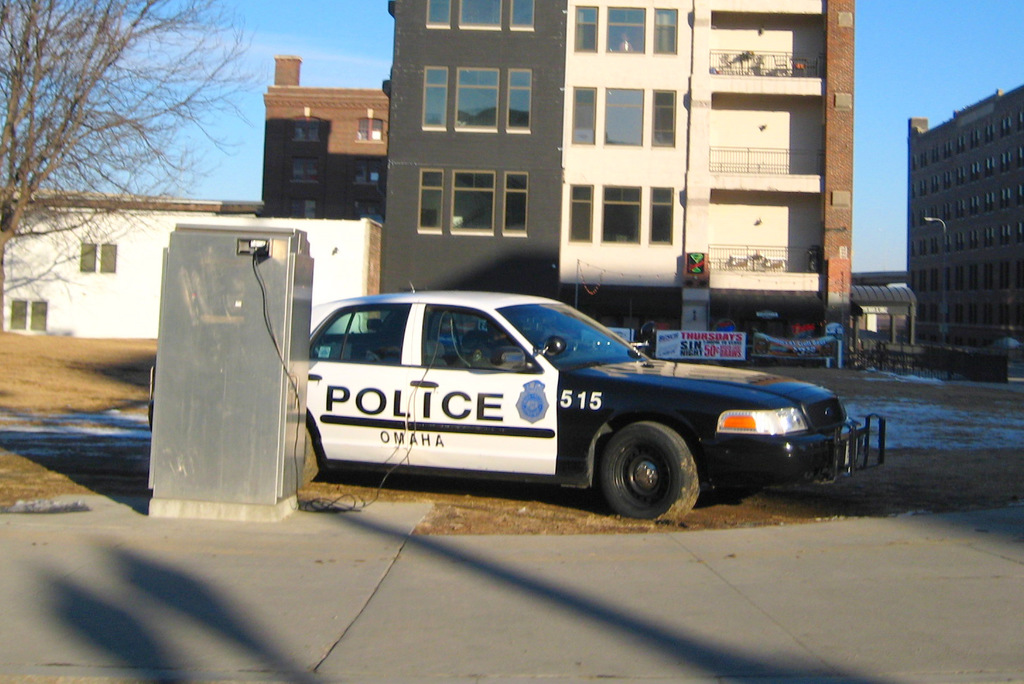Car: (276, 280, 881, 524)
